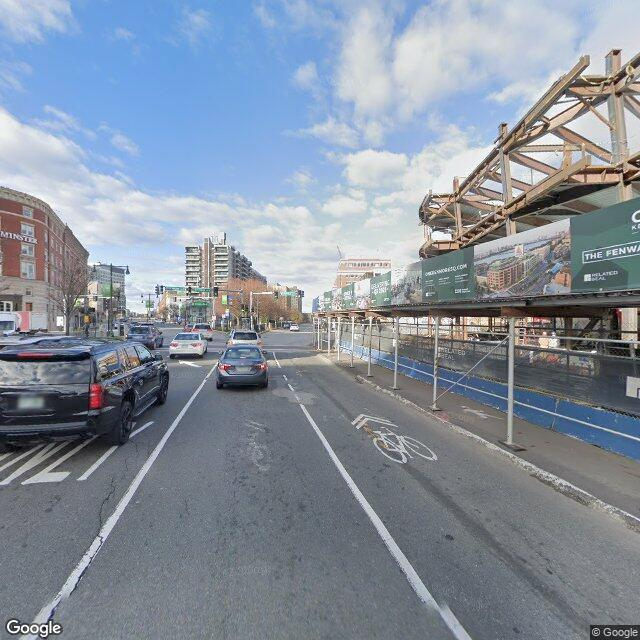crack: (49, 438, 141, 622)
